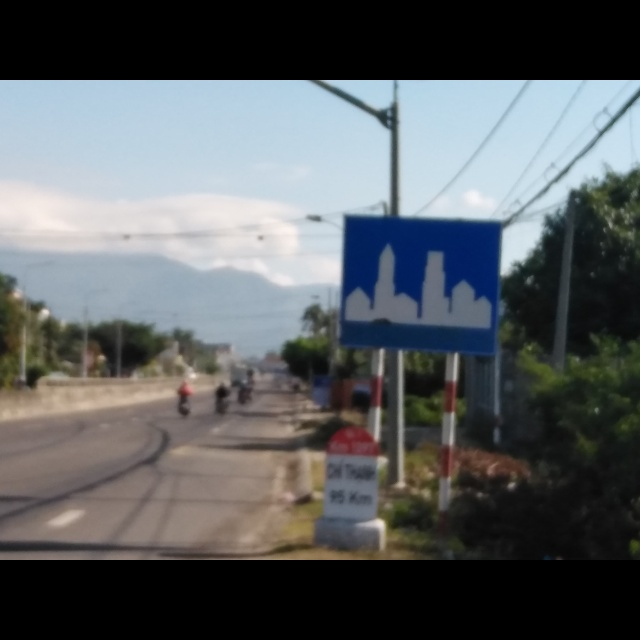Khu đông dân cư: (335, 209, 501, 357)
